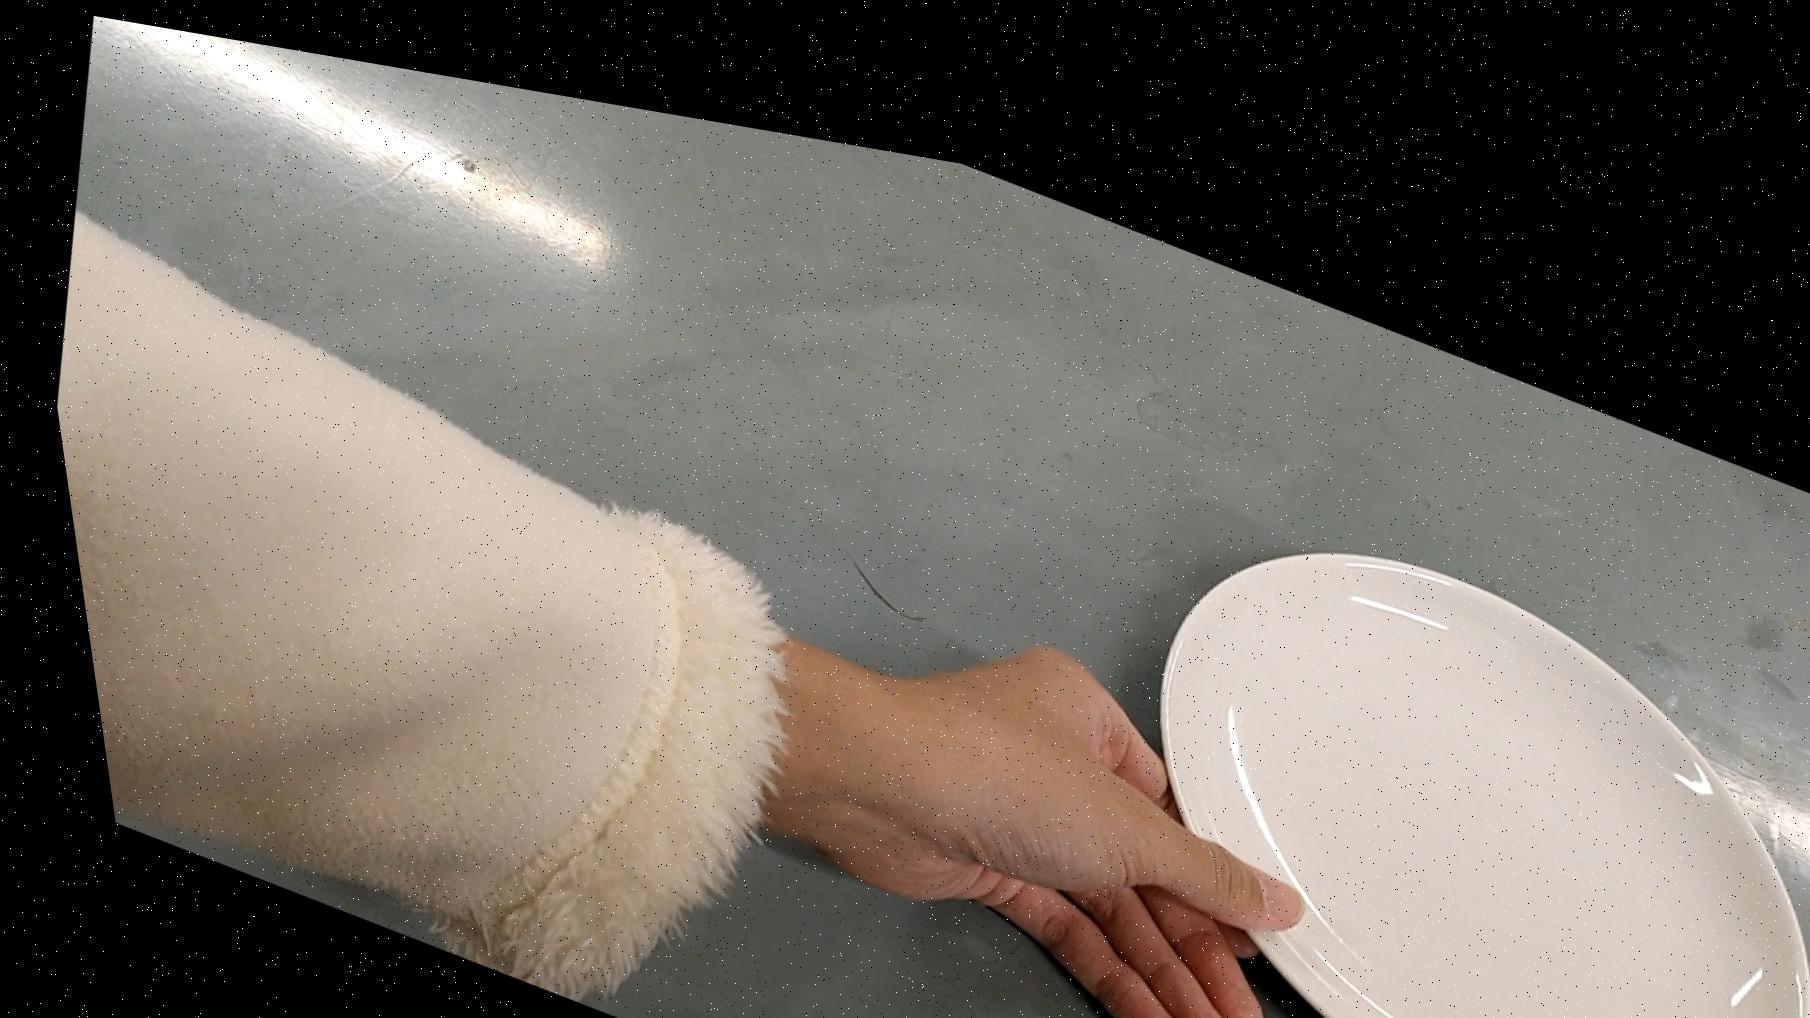plate: (1048, 411, 1810, 1018)
